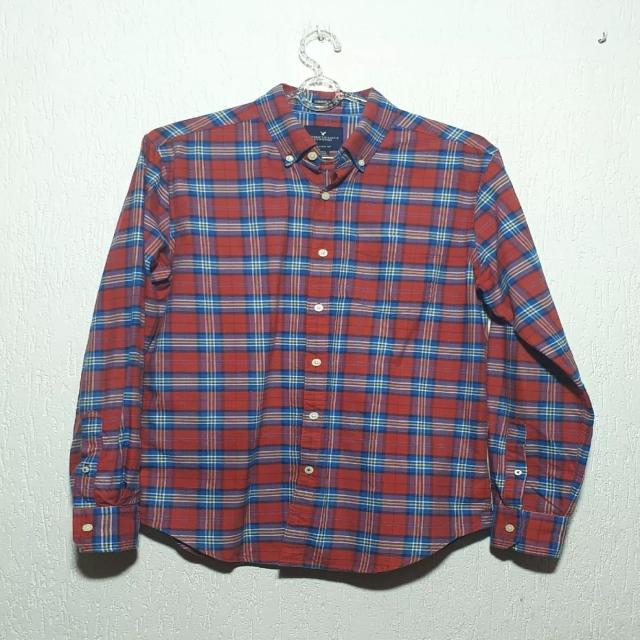long sleeve shirt: (66, 78, 598, 579)
